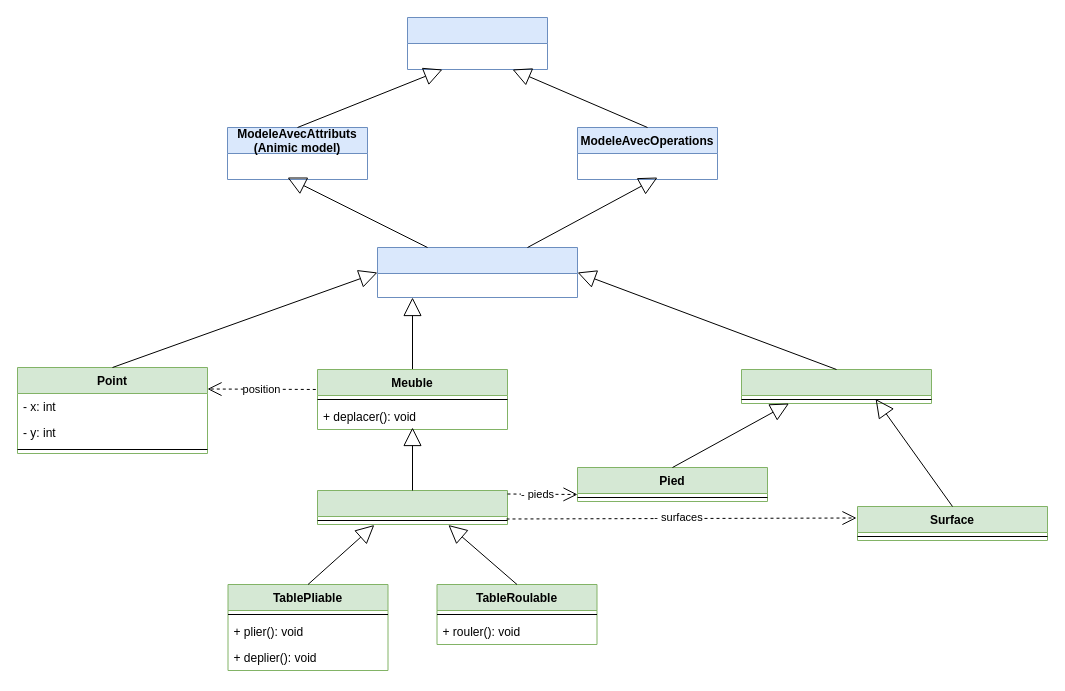
This 1065x691 diagram has some shape labels left out. Each missing label, with the centre of its shape:
"ComposantMeuble" belongs at pixel 836 386.
"Modele" belongs at pixel 477 43.
"ModeleAvecDonneesEtOperations (Rich model)" belongs at pixel 477 272.
"Table" belongs at pixel 412 507.
